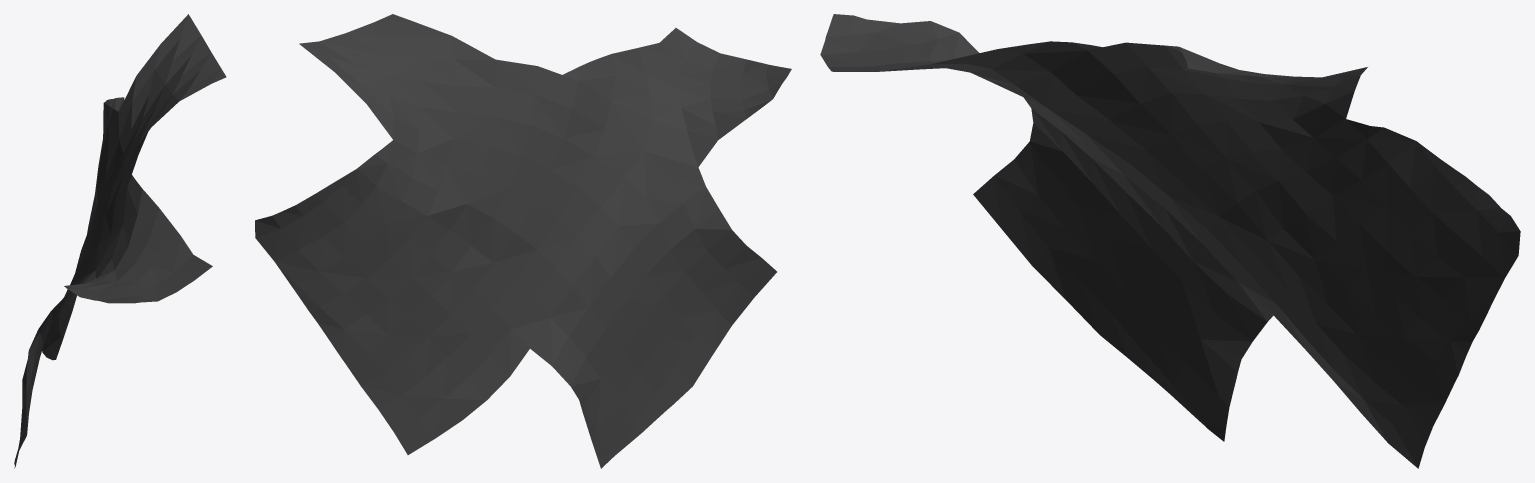
Rendered from eq_dist_limb_Distal_Cruciate_Sesamoidean_Lig.glb.
3 renders of one model, left to right at view 1: azimuth 30°, elevation 25°; view 2: azimuth 150°, elevation 25°; view 3: azimuth 270°, elevation 25°, orthographic. The views are drawn at different scales.
Visible parts, largest first — view 1: eq_dist_limb_Distal_Cruciate_Sesamoidean_Lig; view 2: eq_dist_limb_Distal_Cruciate_Sesamoidean_Lig; view 3: eq_dist_limb_Distal_Cruciate_Sesamoidean_Lig.
Part boxes in pixels (x1,y1,x2,y2): eq_dist_limb_Distal_Cruciate_Sesamoidean_Lig: (14, 14, 226, 468); eq_dist_limb_Distal_Cruciate_Sesamoidean_Lig: (255, 14, 791, 468); eq_dist_limb_Distal_Cruciate_Sesamoidean_Lig: (820, 14, 1520, 468).
Bounding box in the file's own units: 0.0029 × 0.0034 × 0.00403.
1 material, 1 textured.
